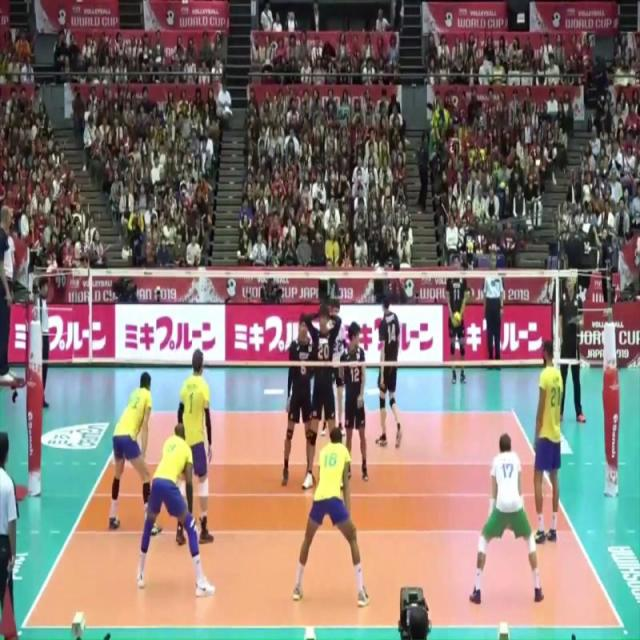volleyball: (451, 310, 462, 328)
